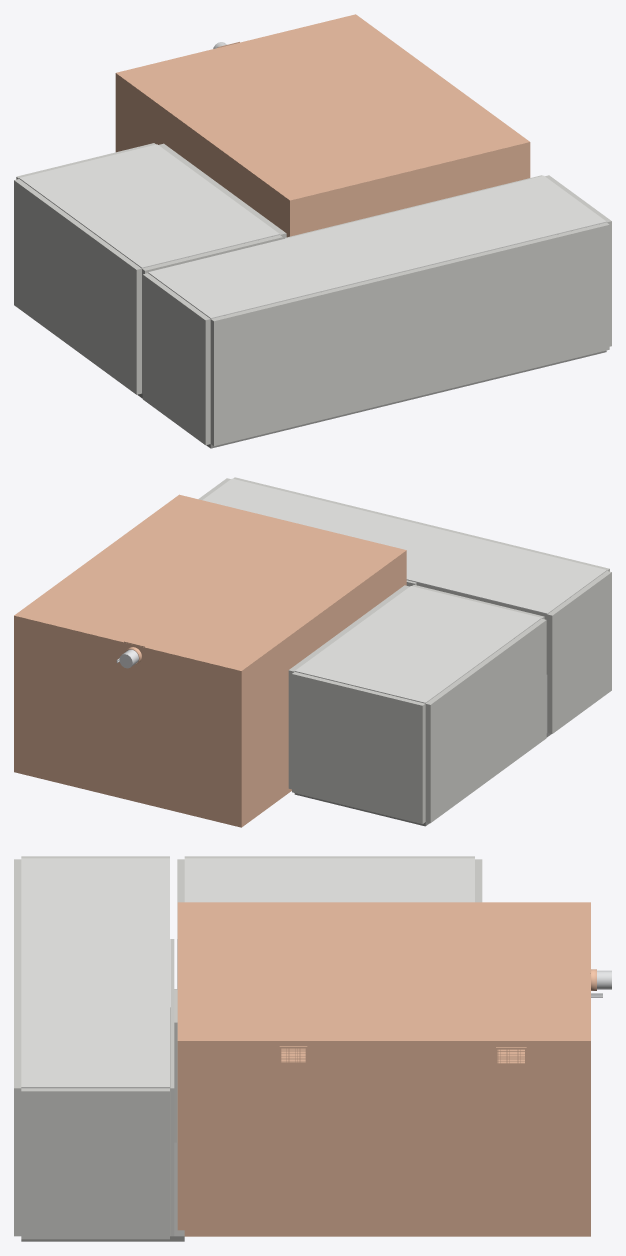
The model's file is suite.glb.
3 renders of one model, top to bottom at view 1: azimuth 30°, elevation 25°; view 2: azimuth 150°, elevation 25°; view 3: azimuth 270°, elevation 25°, orthographic. The views are drawn at different scales.
Parts seen in each view (by area): view 1: Corr_wall_south, Cage_ceiling, Corr_ceiling, Ctrl_ceiling, Ctrl_wall_back, Corr_wall_west, Cage_front, Cage_west, Corr_floor, Ctrl_wall_front, Ctrl_partition, Corr_wall_east; view 2: Cage_ceiling, Cage_rear, Ctrl_wall_side, Corr_ceiling, Ctrl_ceiling, Ctrl_wall_back, Cage_west, Corr_wall_west, Corr_wall_south, Ctrl_partition; view 3: Cage_east, Cage_ceiling, Corr_ceiling, Corr_wall_east, Ctrl_ceiling, Corr_wall_south, Corr_wall_north, Corr_floor, Ctrl_wall_back, Door_leaf.
Boxes of the visible parts, x1,y1,x2,y2 form: Corr_wall_south: (210, 222, 609, 445); Cage_ceiling: (116, 14, 529, 200); Corr_ceiling: (148, 175, 606, 318); Ctrl_ceiling: (19, 144, 279, 268); Ctrl_wall_back: (14, 179, 141, 394); Corr_wall_west: (142, 273, 210, 445); Cage_front: (290, 142, 530, 236); Cage_west: (115, 73, 289, 237); Corr_floor: (142, 350, 606, 448); Ctrl_wall_front: (142, 235, 282, 393); Ctrl_partition: (158, 143, 286, 238); Corr_wall_east: (545, 175, 611, 346); Cage_ceiling: (14, 494, 406, 670); Cage_rear: (14, 615, 241, 827); Ctrl_wall_side: (292, 672, 425, 823); Corr_ceiling: (202, 478, 606, 614); Ctrl_ceiling: (294, 586, 541, 703); Ctrl_wall_back: (425, 618, 546, 823); Cage_west: (241, 550, 406, 827); Corr_wall_west: (547, 571, 611, 733); Corr_wall_south: (233, 477, 609, 674); Ctrl_partition: (288, 585, 409, 789); Cage_east: (177, 1041, 590, 1236); Cage_ceiling: (177, 902, 590, 1040); Corr_ceiling: (21, 858, 169, 1088); Corr_wall_east: (21, 1088, 169, 1239); Ctrl_ceiling: (184, 858, 474, 902); Corr_wall_south: (14, 859, 21, 1236); Corr_wall_north: (170, 939, 174, 1236); Corr_floor: (21, 1007, 184, 1241); Ctrl_wall_back: (184, 856, 474, 858); Door_leaf: (174, 989, 177, 1142).
Size of the model in its own units: 9.19 by 3.59 by 9.89.
